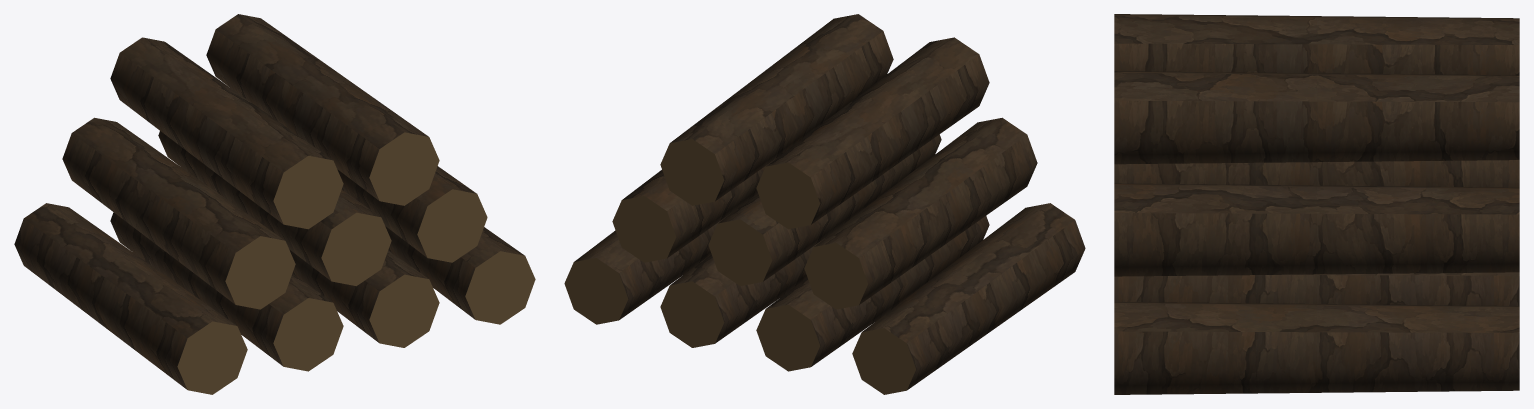
3 renders of one model, left to right at view 1: azimuth 30°, elevation 25°; view 2: azimuth 150°, elevation 25°; view 3: azimuth 270°, elevation 25°, orthographic. The views are drawn at different scales.
Parts seen in each view (by area): view 1: Stacked firewood; view 2: Stacked firewood; view 3: Stacked firewood.
Part boxes in pixels (<box>): Stacked firewood: <box>14,14,535,394</box>; Stacked firewood: <box>564,14,1085,394</box>; Stacked firewood: <box>1114,14,1519,394</box>.
Bounding box in the file's own units: 2.24 × 1.29 × 1.8.
2 materials, 1 textured.
